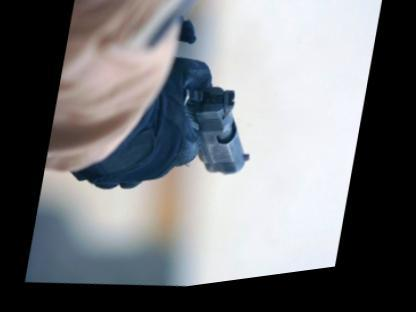pistol: (146, 60, 272, 202)
